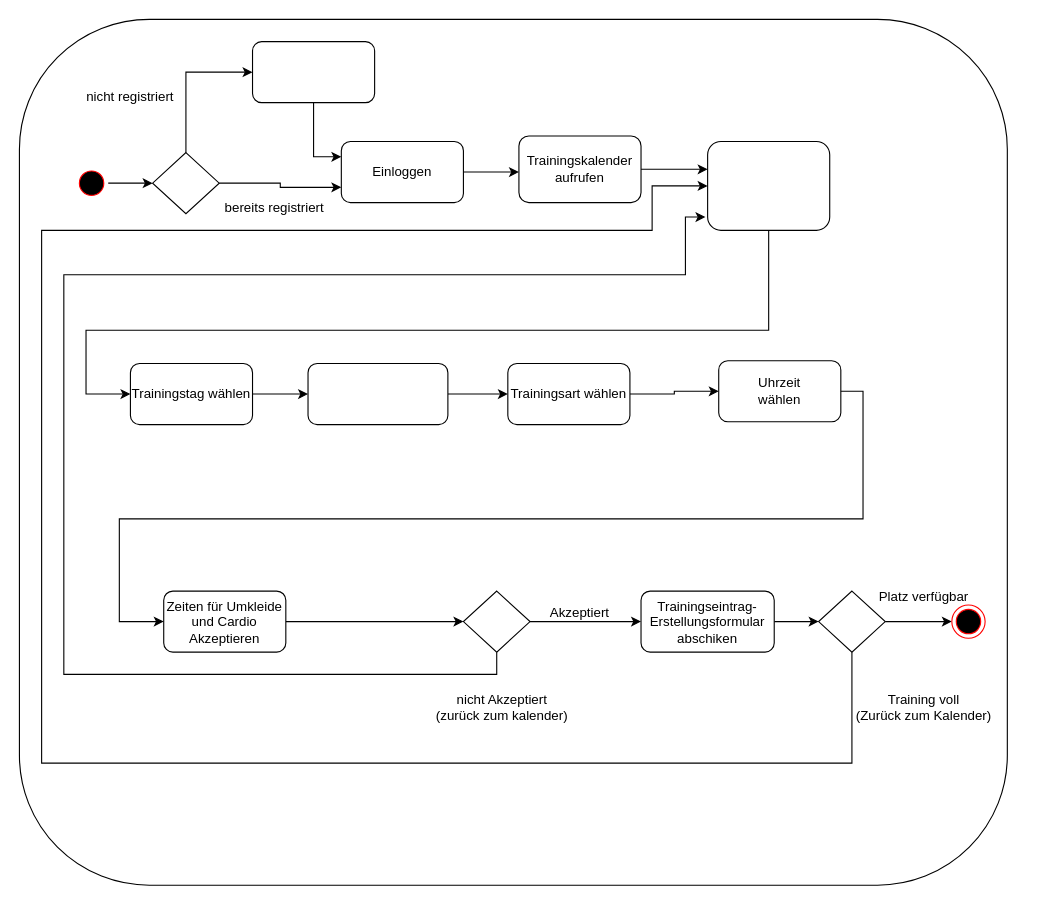
Some shapes in this 1038 by 905 pixel diagram are drawn without their labels. The shapes that lost their labels are listed below. From the top down, each one's centre as x and y in pixels, then its label:
point (313, 72): Registrieren
point (768, 185): Trainingsmonat wählen
point (377, 393): Trainingseintrag- Erstellungsformular aufrufen
